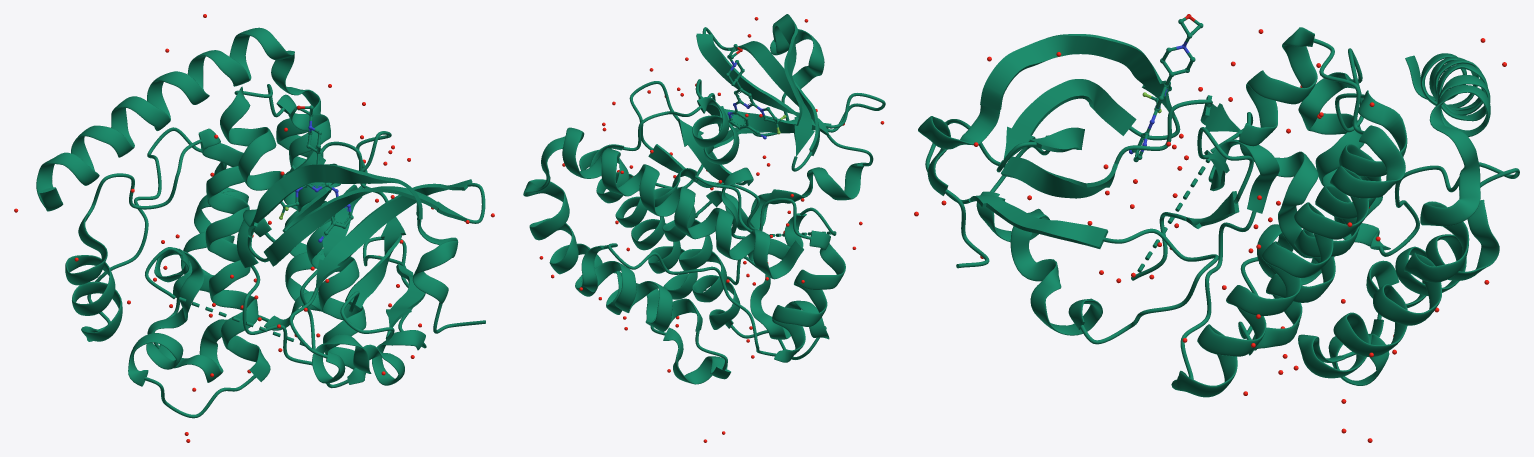
The model's file is 5ceo.glb.
3 views of the same model, side by side, from view 1: azimuth 30°, elevation 25°; view 2: azimuth 150°, elevation 25°; view 3: azimuth 270°, elevation 25° (orthographic). The views are drawn at different scales.
Visible parts, largest first — view 1: Mesh_0, Mesh_4, Mesh_3; view 2: Mesh_0, Mesh_3, Mesh_4, Mesh_2; view 3: Mesh_0, Mesh_4, Mesh_3.
Boxes of the visible parts, x1,y1,x2,y2 form: Mesh_0: (36,27,485,418); Mesh_4: (14,14,494,442); Mesh_3: (280,106,352,239); Mesh_0: (523,14,885,384); Mesh_3: (727,45,784,137); Mesh_4: (539,17,884,442); Mesh_2: (725,44,786,139); Mesh_0: (918,27,1519,397); Mesh_4: (914,29,1506,442); Mesh_3: (1131,15,1200,160).
Size of the model in its own units: 0.2665 by 0.2943 by 0.3591.
